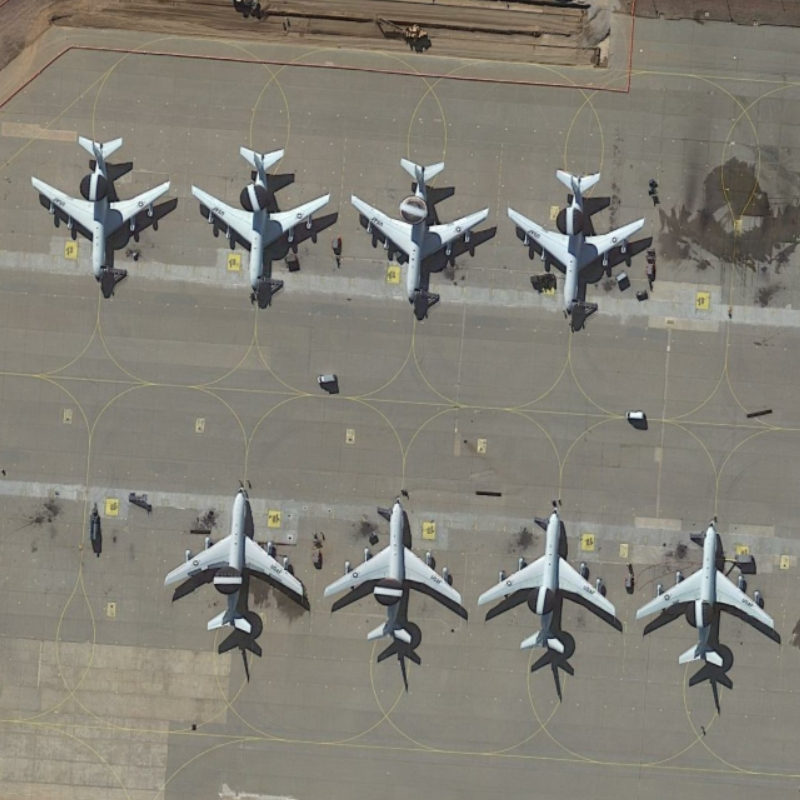A7: (158, 472, 314, 650), (506, 159, 657, 327), (631, 511, 782, 677), (25, 127, 181, 287), (318, 489, 467, 656), (346, 151, 497, 311), (472, 503, 622, 663), (188, 143, 338, 301)
